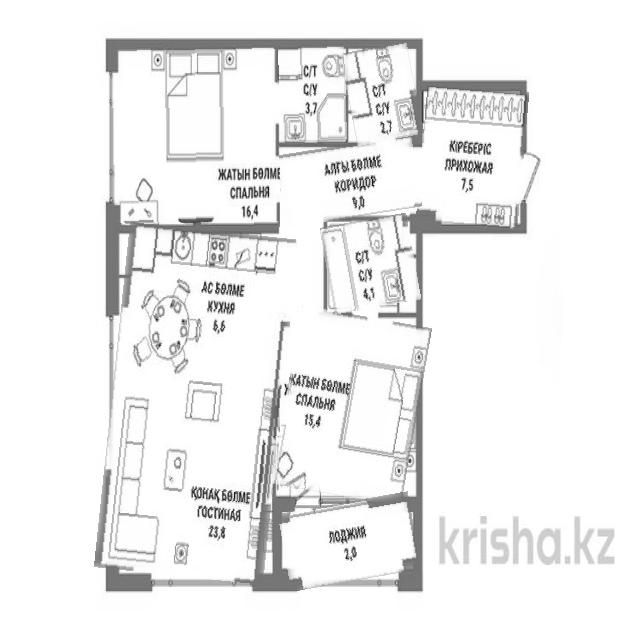balcony: (282, 497, 418, 586)
bathroom: (324, 216, 418, 312), (344, 44, 420, 144), (279, 45, 347, 142)
hallway: (419, 85, 527, 227), (278, 139, 420, 222)
living_room: (111, 42, 280, 228), (279, 310, 425, 501)
studio: (103, 226, 291, 581)
